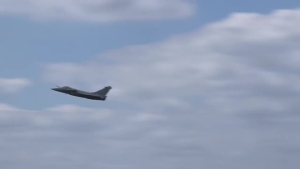flight: (49, 84, 112, 102)
